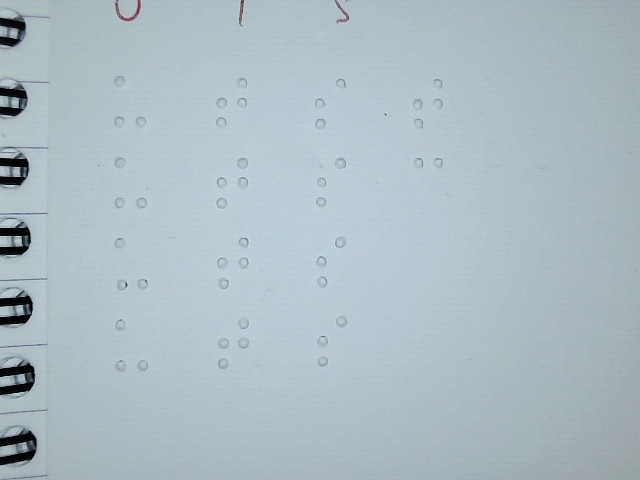S: (312, 76, 347, 131), (314, 155, 349, 210), (314, 234, 349, 289), (315, 312, 350, 367)
T: (214, 74, 249, 129), (214, 155, 249, 210), (216, 234, 251, 289), (216, 315, 251, 370)
U: (113, 73, 148, 128), (113, 154, 148, 209), (114, 235, 149, 290), (115, 317, 150, 372)
